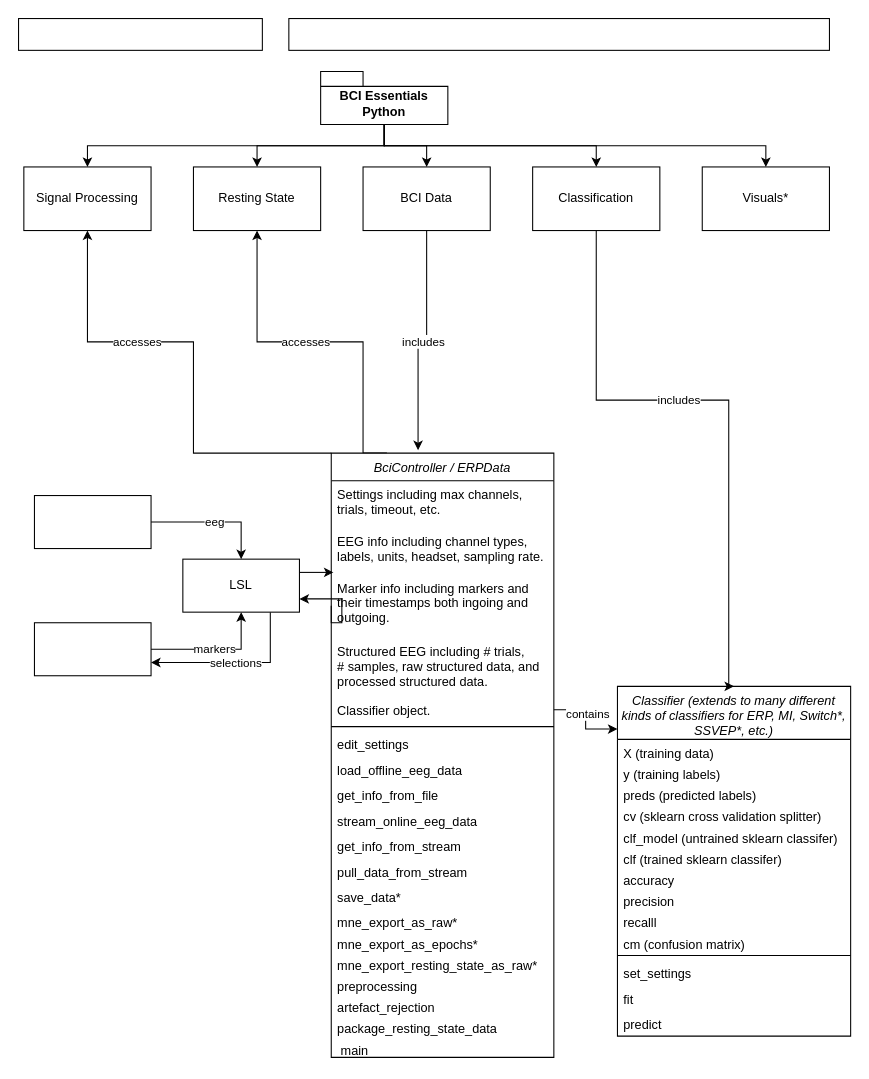
Image size: 869x1079. Some labels were removed from this diagram. The shapes that lost their labels are listed below. From the top down, each one's centre as x and y in pixels, then its label:
the point at 139,33: * = incomplete or likely broken
the point at 558,33: A diagram of BCI Essentials Python as it exists today (May 4, 2023)
the point at 92,521: Headset
the point at 92,649: Unity
